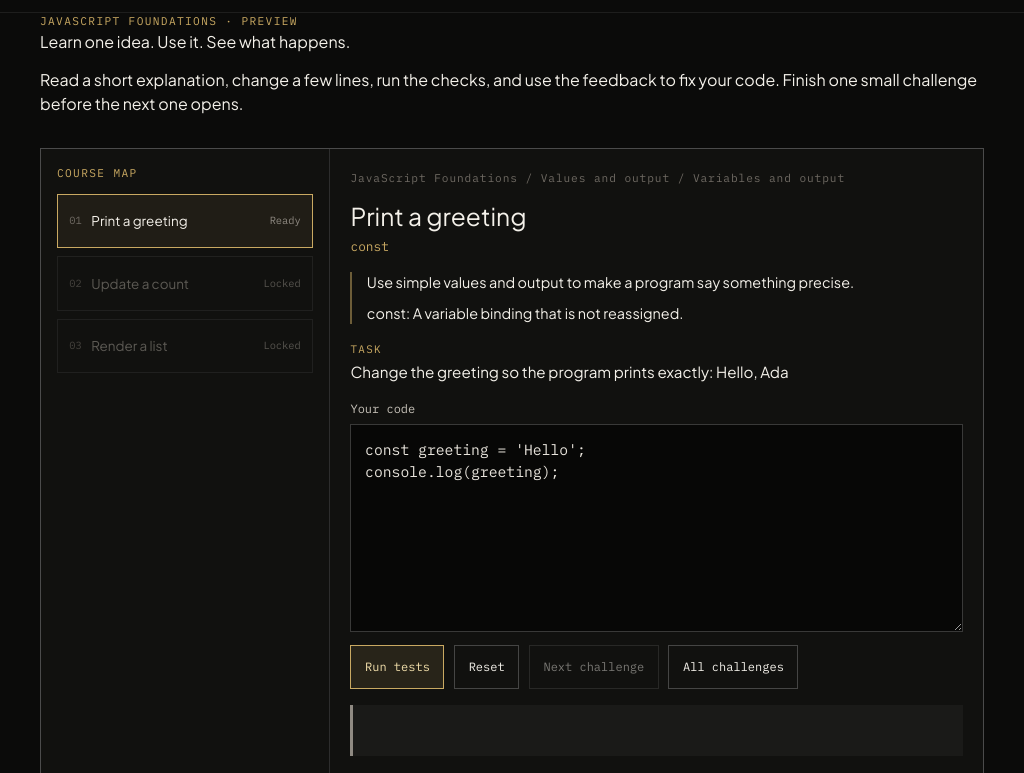
Test: Challenge › renders the failure message when the run fails
This screenshot has width=1024, height=773.
Click the button "Run tests": coordinates (398, 667) [350,645,444,689]
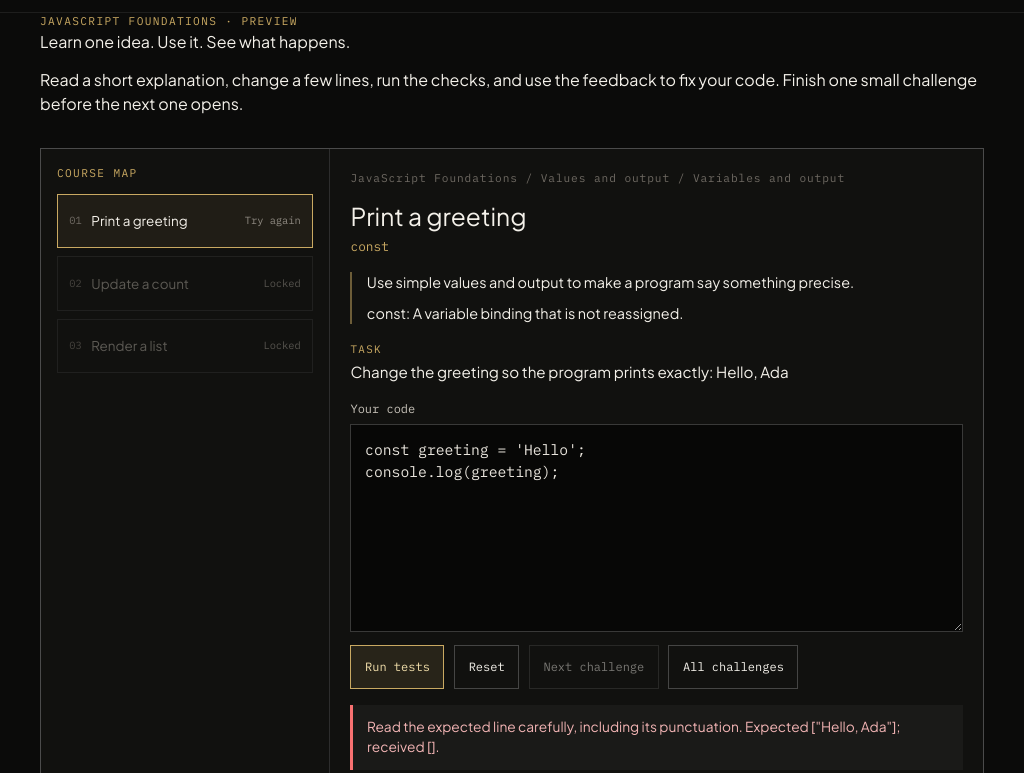
Expected: the text "Read the expected line carefully, including its punctuation. Expected" is shown, [367,718,901,755]
